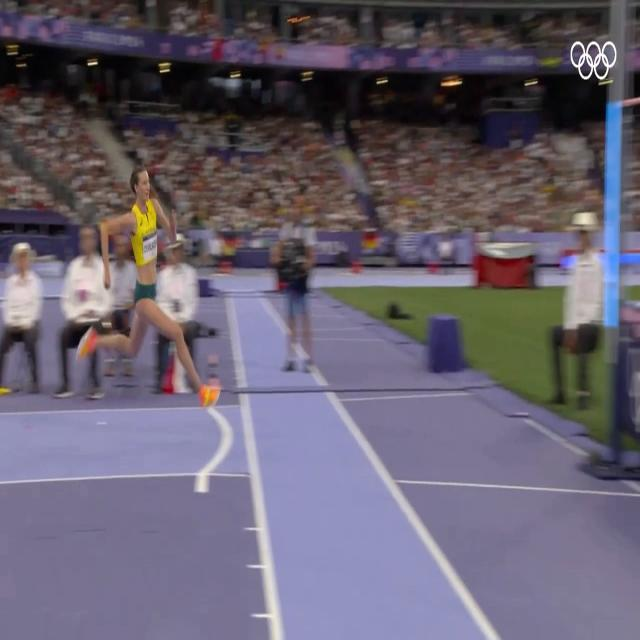run: (78, 167, 220, 406)
